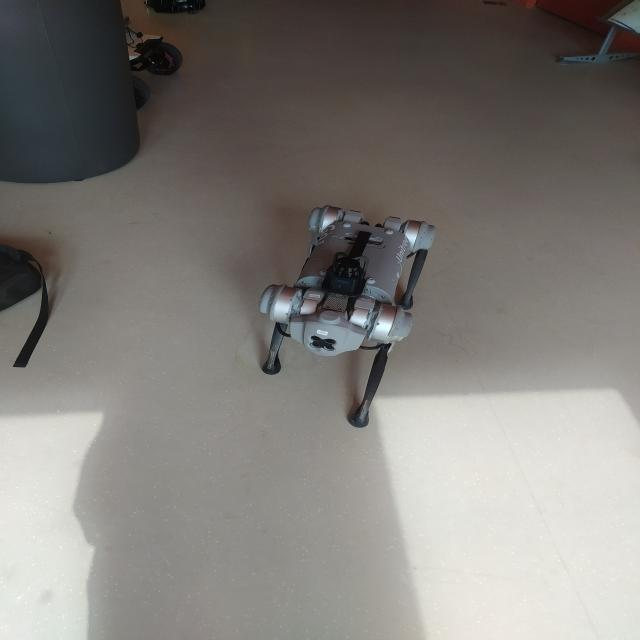unitree-go1-robot: (244, 193, 450, 438)
